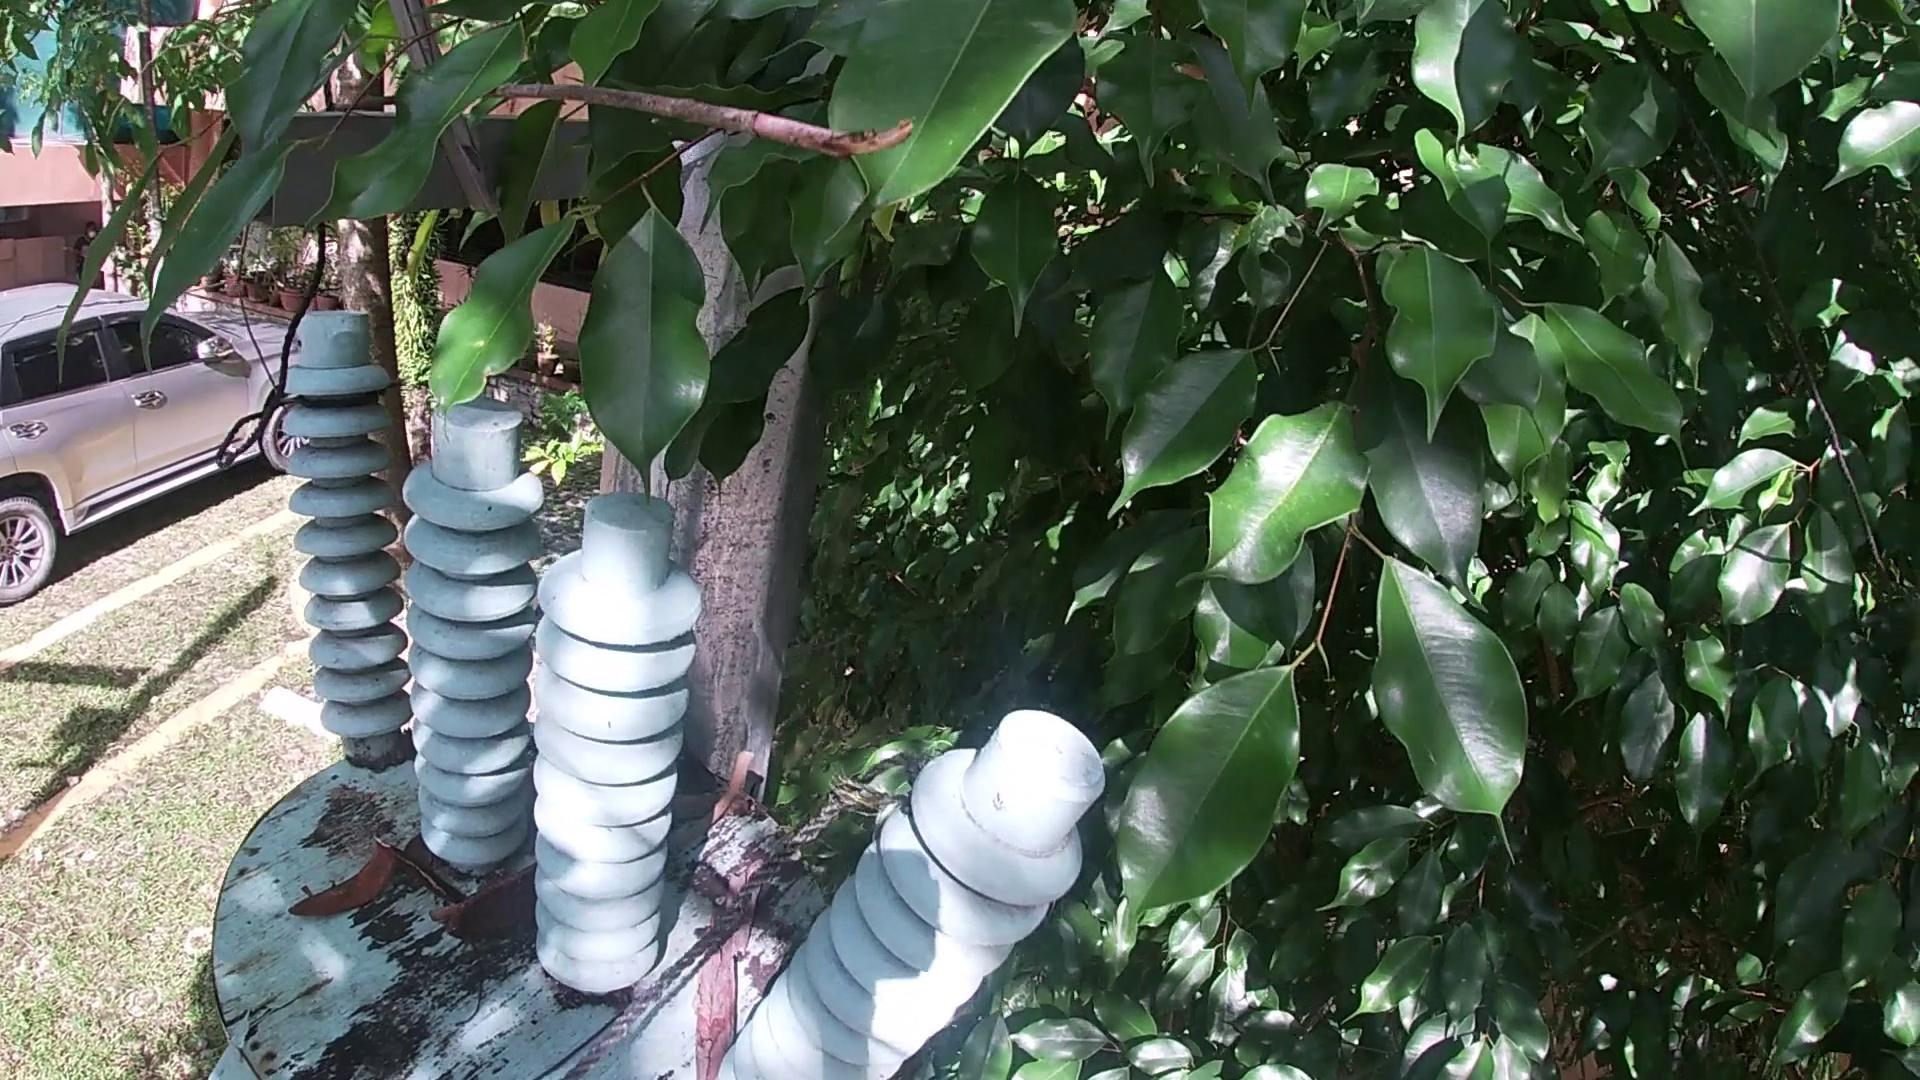leaf: (407, 856, 468, 899)
mahogany fruit: (284, 845, 397, 926), (444, 868, 534, 953)
tree branch: (686, 833, 794, 1080), (673, 738, 774, 848), (663, 793, 760, 816), (421, 899, 454, 934)
